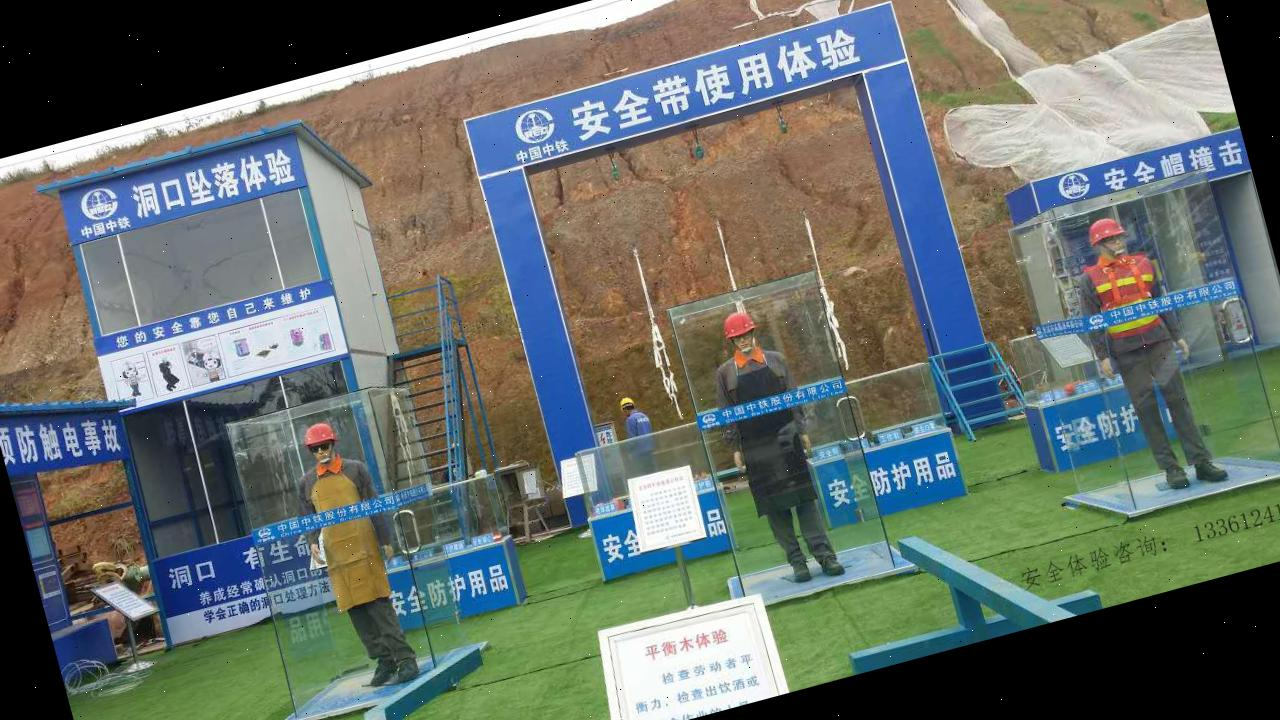helmet: (1082, 209, 1128, 246), (718, 306, 758, 342), (298, 419, 339, 452)
no_wear: (714, 344, 808, 458), (300, 457, 376, 548)
wear: (1084, 248, 1172, 356)
